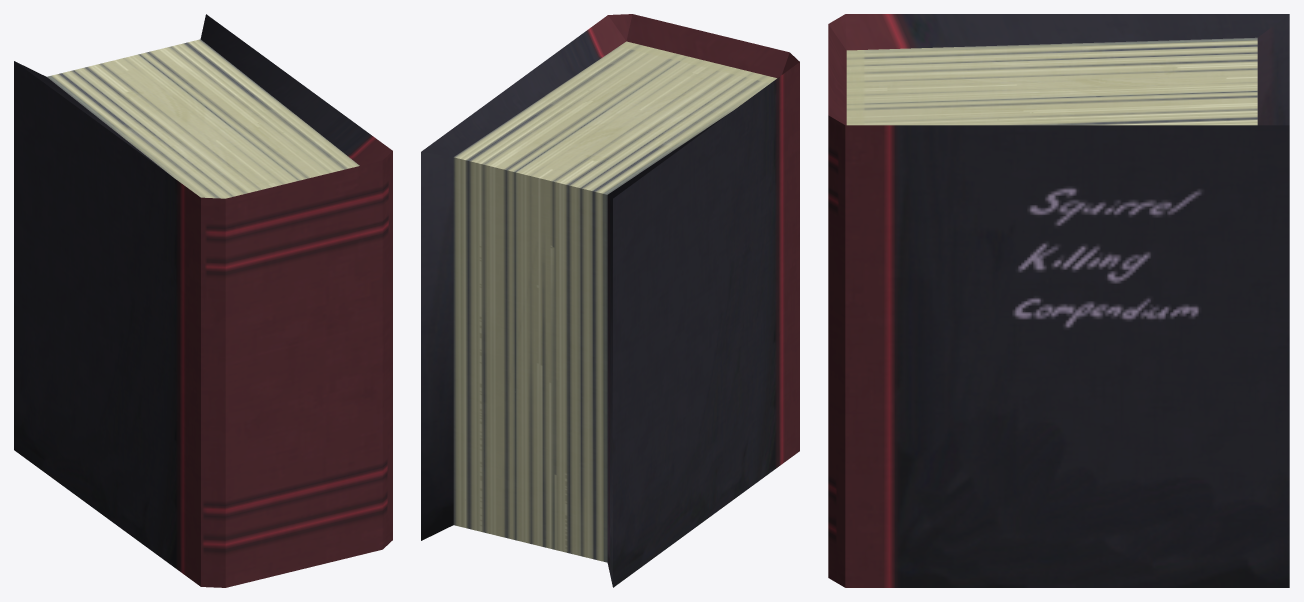
Rendered from e_asset_book_compendium.fbx.
3 renders of one model, left to right at view 1: azimuth 30°, elevation 25°; view 2: azimuth 150°, elevation 25°; view 3: azimuth 270°, elevation 25°, orthographic. The views are drawn at different scales.
Parts seen in each view (by area): view 1: pCube128; view 2: pCube128; view 3: pCube128.
Part boxes in pixels (bbox=[...]): pCube128: bbox=[14, 14, 392, 587]; pCube128: bbox=[421, 14, 799, 587]; pCube128: bbox=[828, 14, 1289, 587].
Size of the model in its own units: 0.1186 by 0.2297 by 0.2077.
